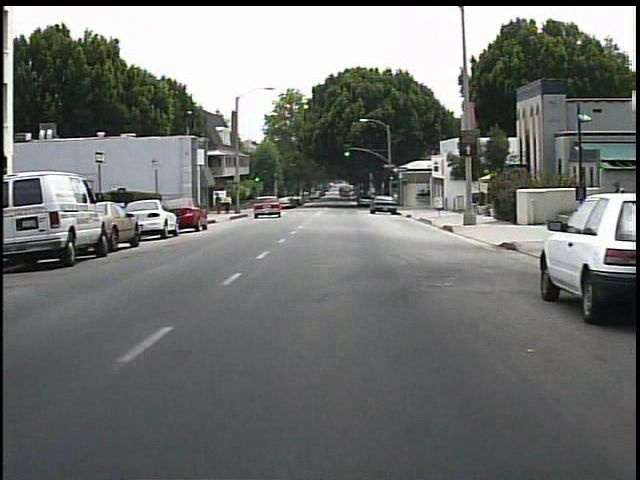person: (213, 193, 226, 217), (223, 194, 234, 216)
